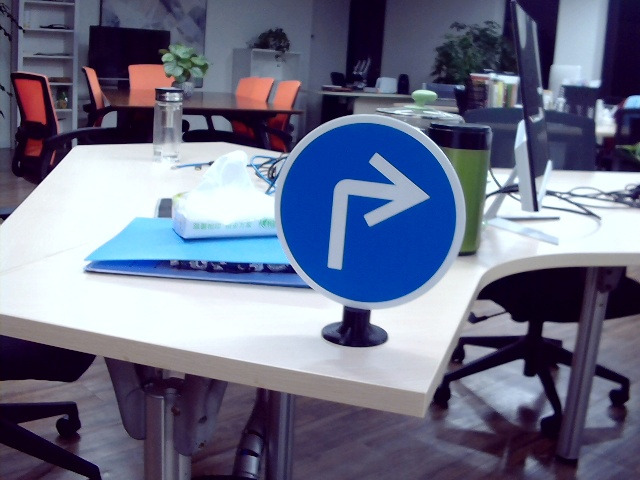turn_right: (320, 146, 426, 274)
